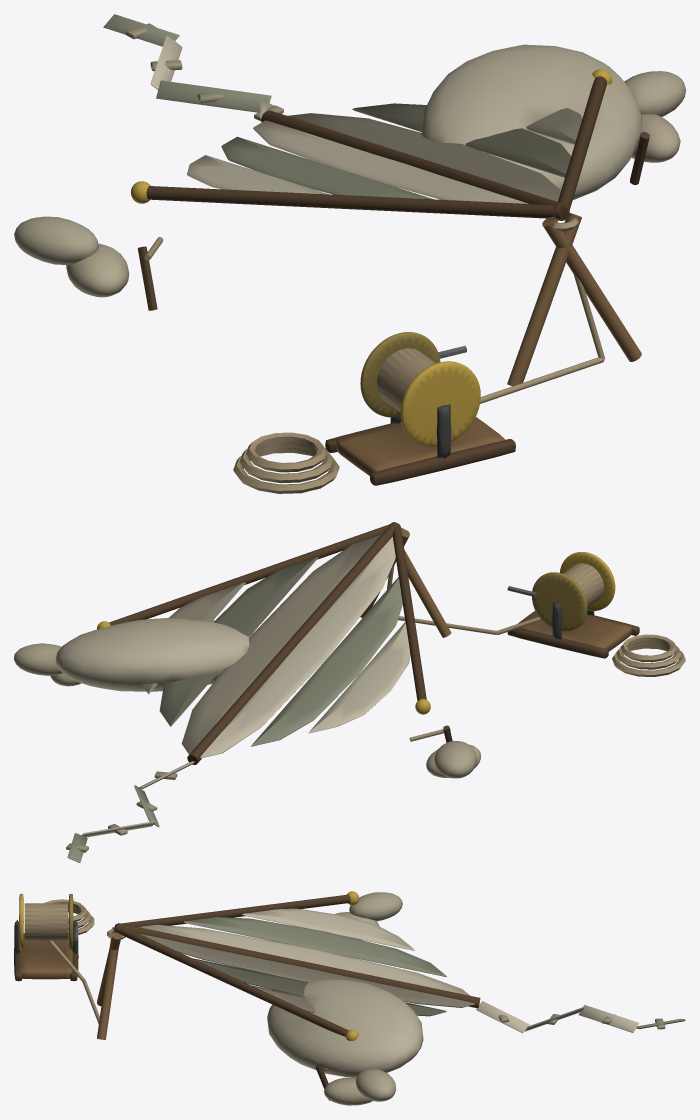
Rendered from moored_kite_b.glb.
3 views of the same model, one above another, from view 1: azimuth 30°, elevation 25°; view 2: azimuth 150°, elevation 25°; view 3: azimuth 270°, elevation 25° (orthographic). The views are drawn at different scales.
Visible parts, largest first — view 1: Surface; view 2: Surface; view 3: Surface.
Part boxes in pixels (bbox=[...]): Surface: bbox=[14, 14, 685, 493]; Surface: bbox=[14, 522, 685, 862]; Surface: bbox=[14, 891, 685, 1105].
Size of the model in its own units: 6.35 by 1.44 by 8.54.
